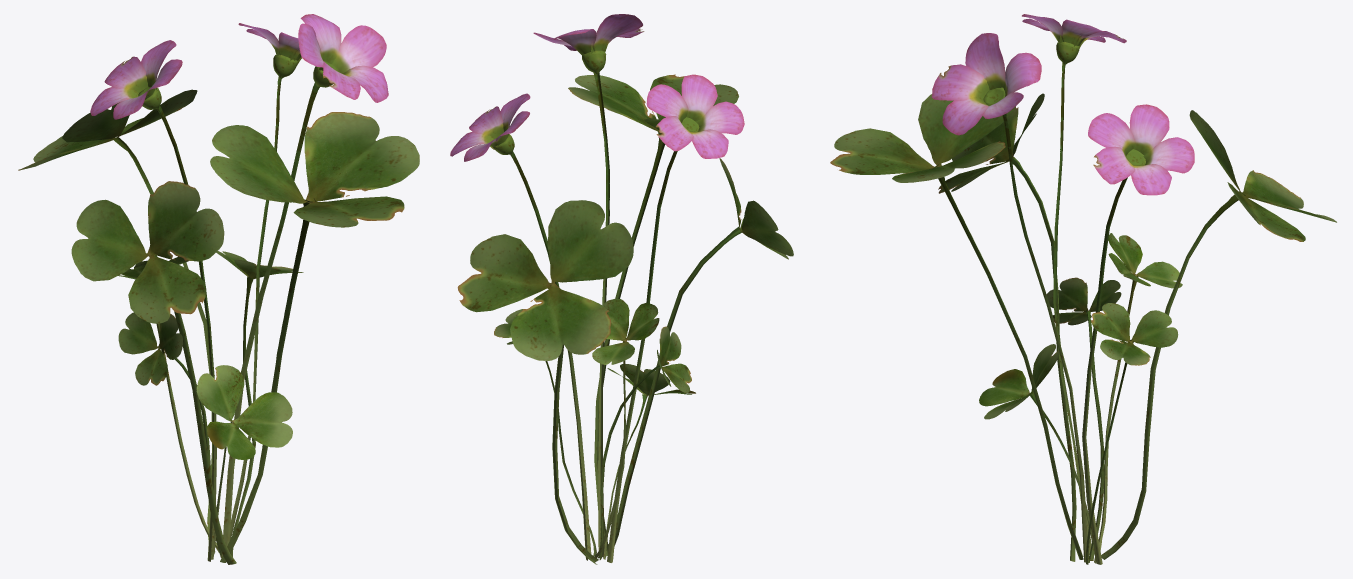
The model's file is wild-sorrel.glb.
3 views of the same model, side by side, from view 1: azimuth 30°, elevation 25°; view 2: azimuth 150°, elevation 25°; view 3: azimuth 270°, elevation 25° (orthographic). The views are drawn at different scales.
Parts seen in each view (by area): view 1: Licensed wild sorrel foliage; view 2: Licensed wild sorrel foliage; view 3: Licensed wild sorrel foliage.
Part boxes in pixels (<box>): Licensed wild sorrel foliage: <box>18,14,419,564</box>; Licensed wild sorrel foliage: <box>450,14,793,564</box>; Licensed wild sorrel foliage: <box>830,14,1336,564</box>.
Bounding box in the file's own units: 0.4714 × 0.8 × 0.6906.
Materials: 1 (1 with a texture image).
